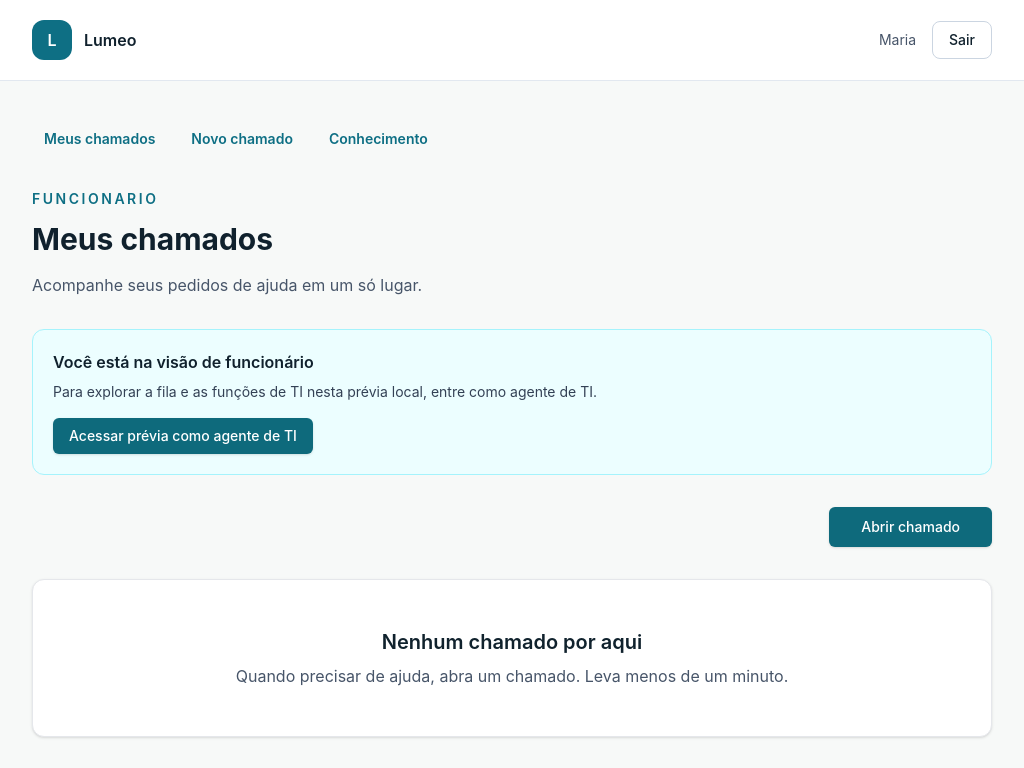
Test case: permite sair da visão de funcionário na prévia e abrir a fila da TI
This screenshot has width=1024, height=768.
Step 1. Click the button "Acessar prévia como agente de TI" → (183, 436), box [53,418,313,454]
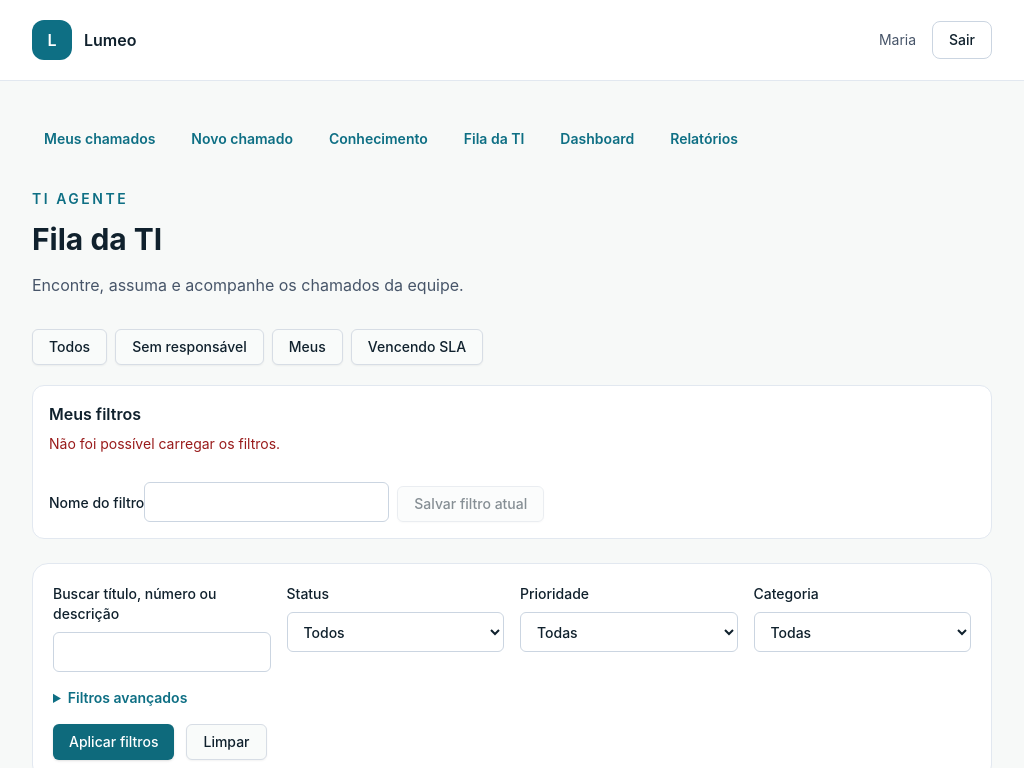
Result: the heading "Fila da TI" is shown at [32,221,162,257]
